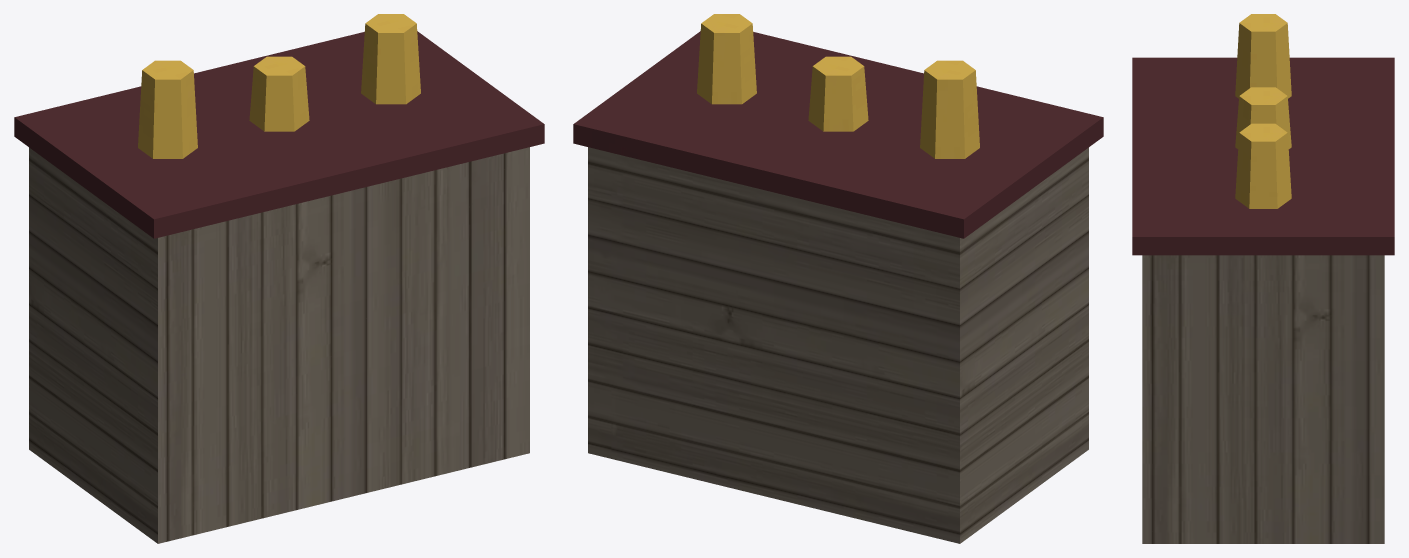
File: display_stand_01.glb
3 views of the same model, side by side, from view 1: azimuth 30°, elevation 25°; view 2: azimuth 150°, elevation 25°; view 3: azimuth 270°, elevation 25° (orthographic). The views are drawn at different scales.
Visible parts, largest first — view 1: display_stand_01; view 2: display_stand_01; view 3: display_stand_01.
Part boxes in pixels (x1,y1,x2,y2): display_stand_01: (14, 14, 544, 543); display_stand_01: (573, 14, 1103, 543); display_stand_01: (1132, 14, 1394, 543).
Bounding box in the file's own units: 1.05 × 1.05 × 0.6501.
Materials: 3 (3 with a texture image).
